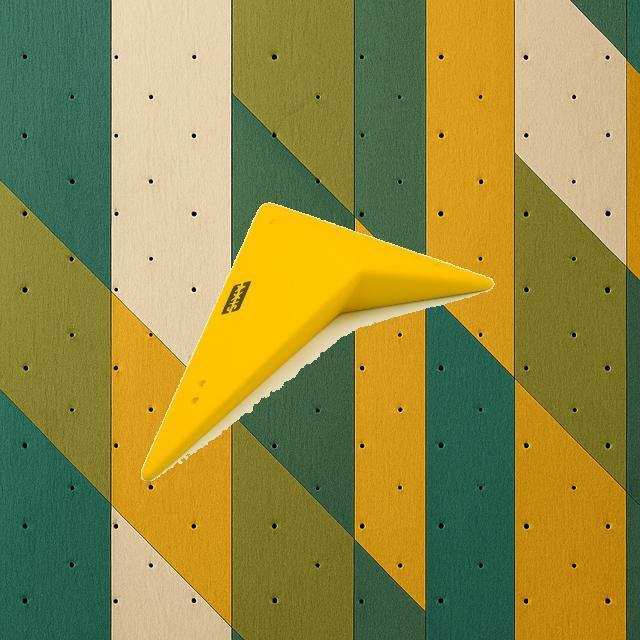Volume: (140, 202, 492, 480)
